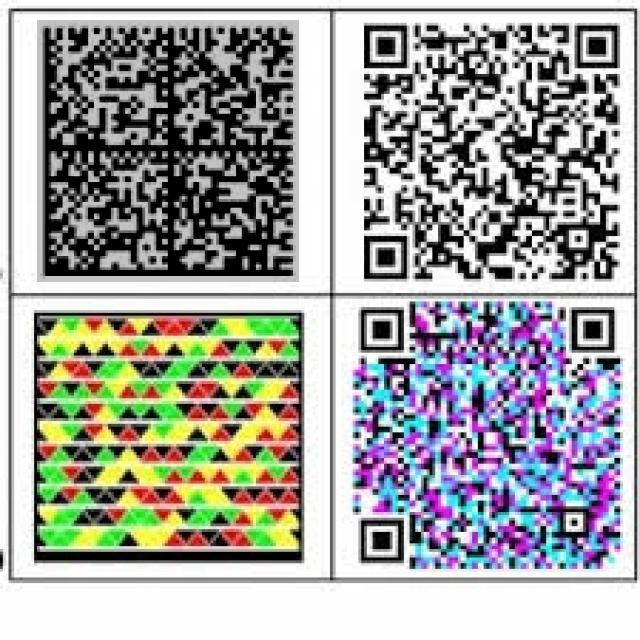Data-Matrix: (37, 20, 299, 282)
